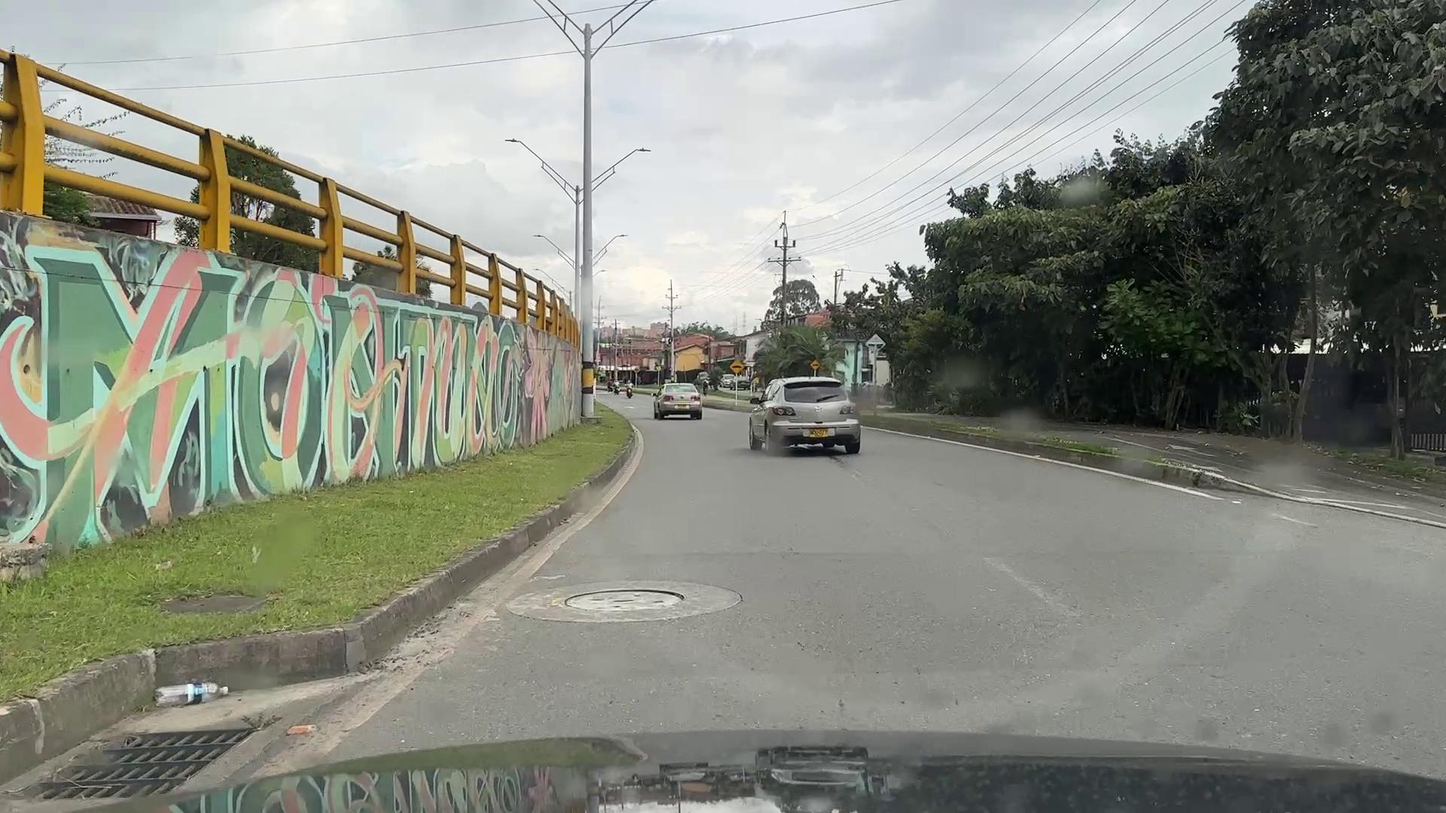registro: (564, 589, 685, 610)
rejilla: (3, 727, 261, 799)
